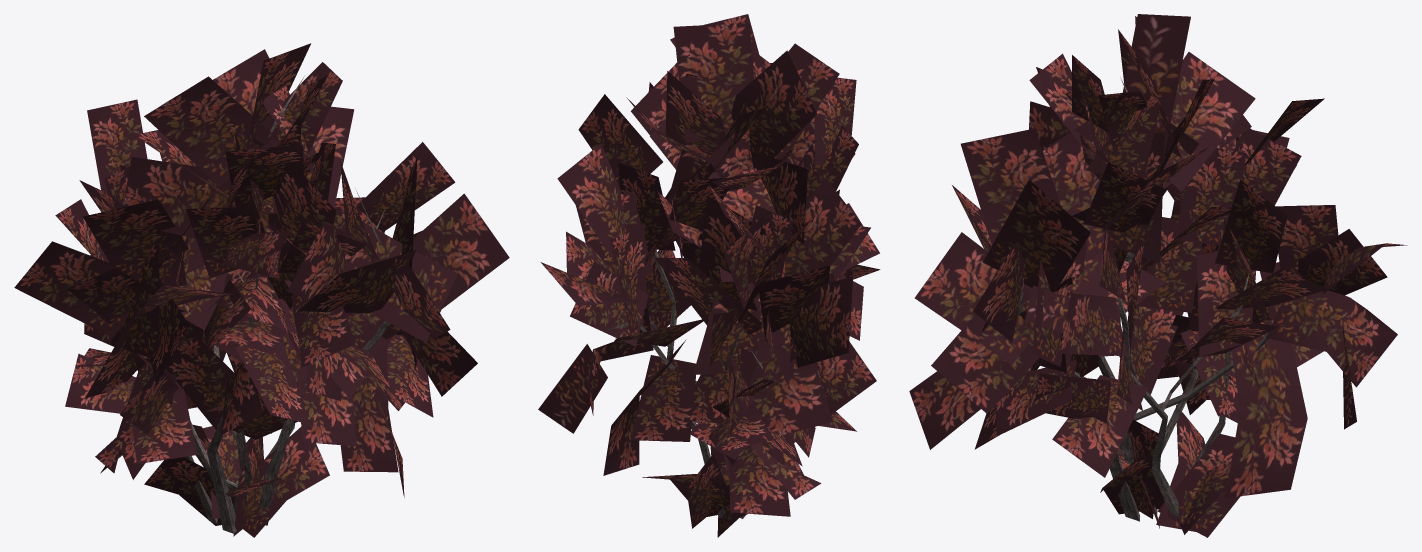
The model's file is 极光世界__晨光平原_血色谷_植物_05.FBX.
3 views of the same model, side by side, from view 1: azimuth 30°, elevation 25°; view 2: azimuth 150°, elevation 25°; view 3: azimuth 270°, elevation 25° (orthographic). The views are drawn at different scales.
Parts seen in each view (by area): view 1: DrawCall_0032, DrawCall_0033; view 2: DrawCall_0032, DrawCall_0033; view 3: DrawCall_0032, DrawCall_0033.
Boxes of the visible parts, box(x1,y1,x2,y2) form: DrawCall_0032: box(14, 43, 509, 537); DrawCall_0033: box(184, 76, 390, 533); DrawCall_0032: box(538, 14, 880, 537); DrawCall_0033: box(606, 162, 762, 518); DrawCall_0032: box(909, 14, 1407, 537); DrawCall_0033: box(1017, 78, 1268, 521).
Bounding box in the file's own units: 10.21 × 13.91 × 11.94.
